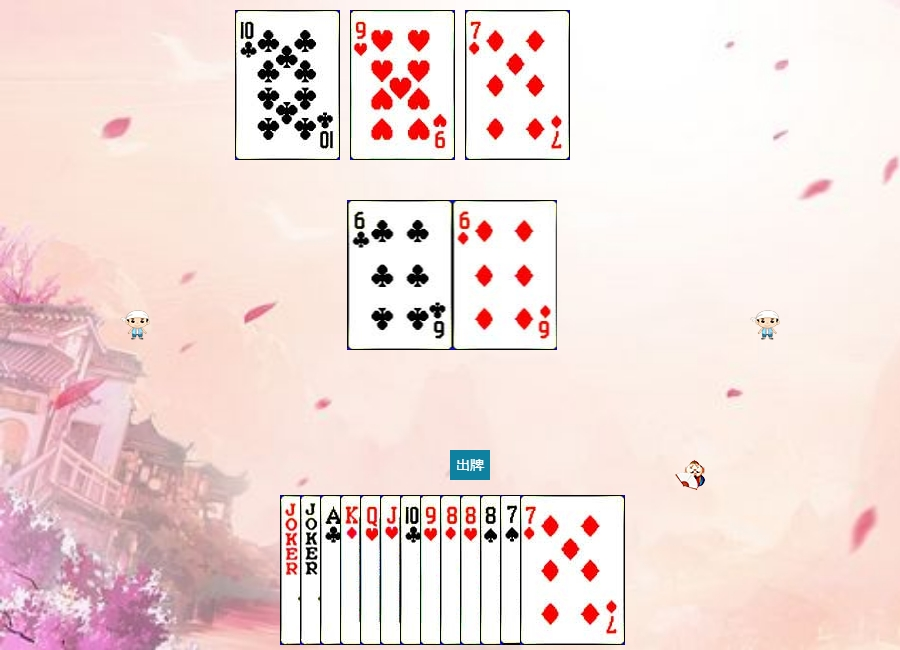10~2: (235, 10, 340, 160), (400, 495, 505, 645)
11~3: (380, 495, 485, 645)
12~3: (360, 495, 465, 645)
13~1: (340, 495, 445, 645)
14~2: (320, 495, 425, 645)
17~3: (300, 495, 405, 645)
18~4: (280, 495, 385, 645)
6~1: (453, 200, 558, 350)
6~2: (348, 200, 453, 350)
7~1: (465, 10, 570, 160), (520, 495, 625, 645)
7~4: (500, 495, 605, 645)
8~1: (440, 495, 545, 645)
8~3: (460, 495, 565, 645)
8~4: (480, 495, 585, 645)
9~3: (350, 10, 455, 160), (420, 495, 525, 645)
